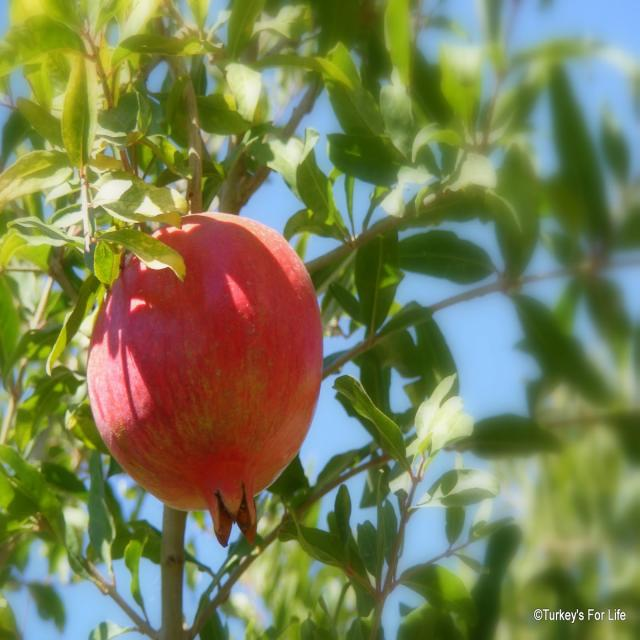apple: (85, 213, 328, 553)
